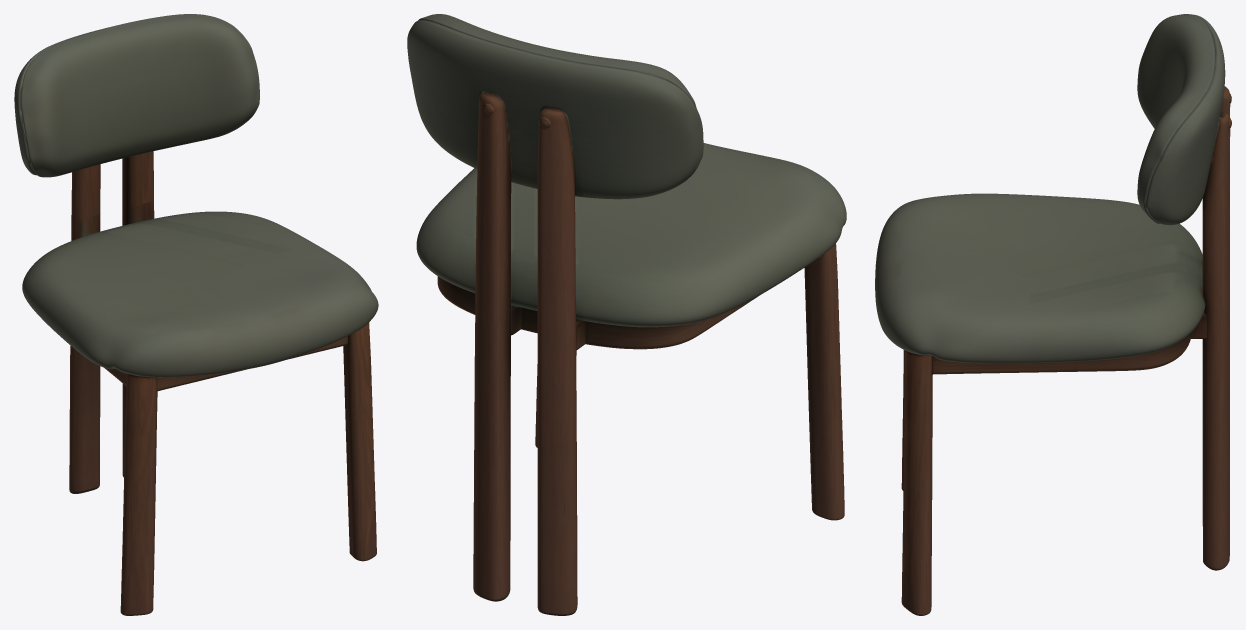
The model's file is cb_chair_pasadena.glb.
3 renders of one model, left to right at view 1: azimuth 30°, elevation 25°; view 2: azimuth 150°, elevation 25°; view 3: azimuth 270°, elevation 25°, orthographic. The views are drawn at different scales.
Parts seen in each view (by area): view 1: node_0; view 2: node_0; view 3: node_0.
Part boxes in pixels (box(x1,y1,x2,y2)): node_0: box(14, 14, 378, 615); node_0: box(407, 14, 846, 615); node_0: box(875, 14, 1231, 615).
Bounding box in the file's own units: 0.6047 × 0.9546 × 0.6267.
Materials: 1 (1 with a texture image).
